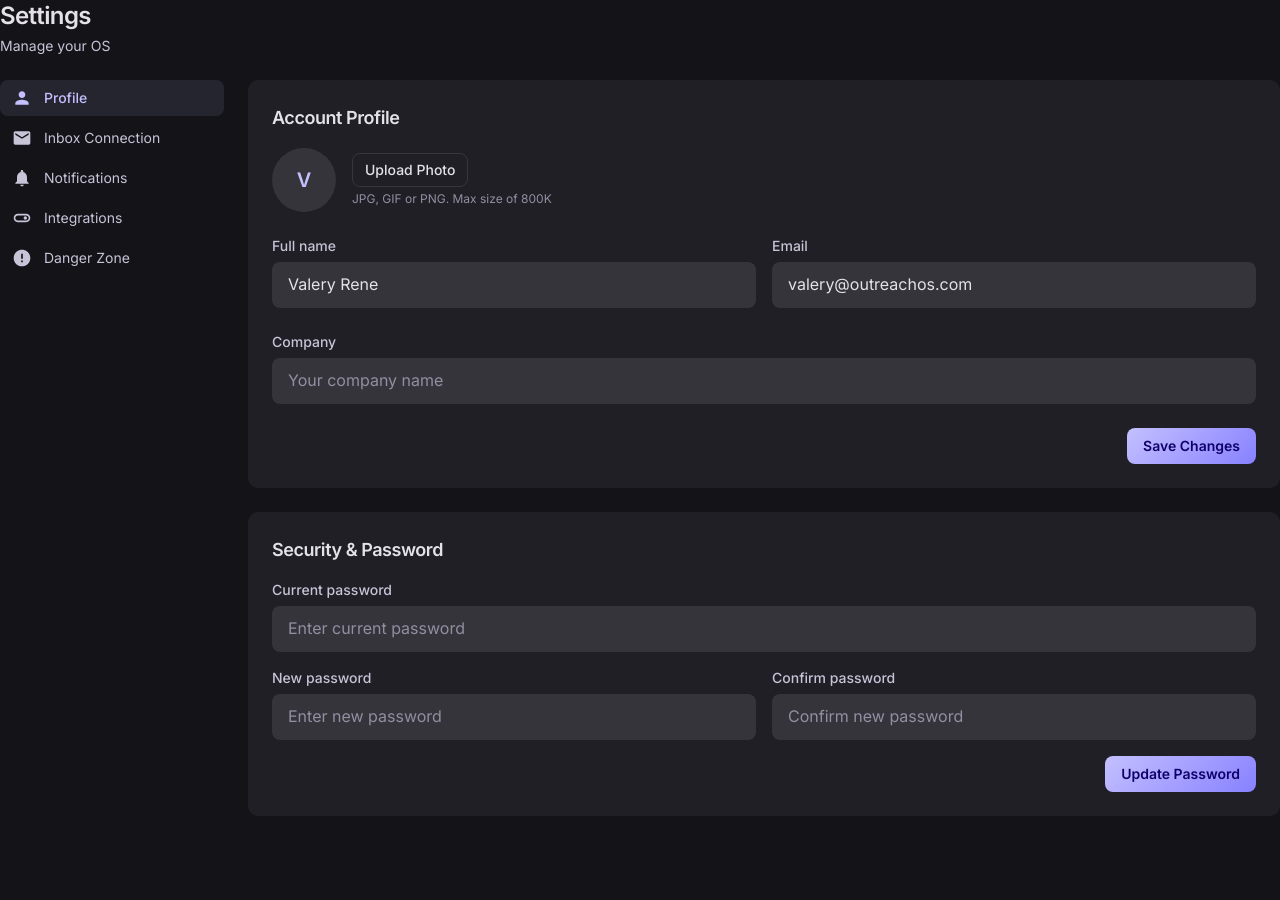
Test: SettingsPage › opens delete confirmation modal on Delete Account click
The width and height of the screenshot is (1280, 900).
Click the button "Danger Zone" at (112,258), box [0,240,224,276]
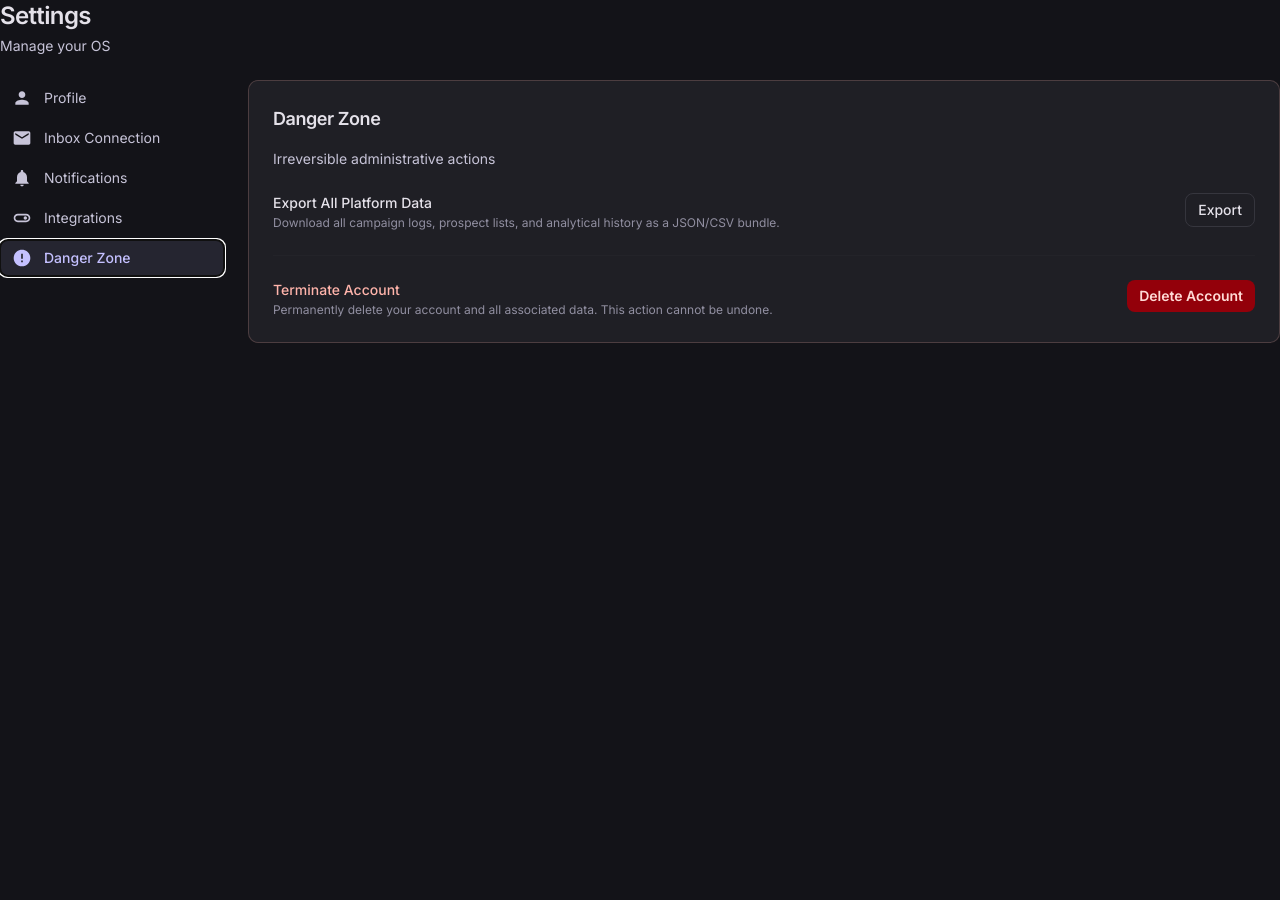
Click the button "Delete Account" at (1191,296), box [1127,280,1255,312]
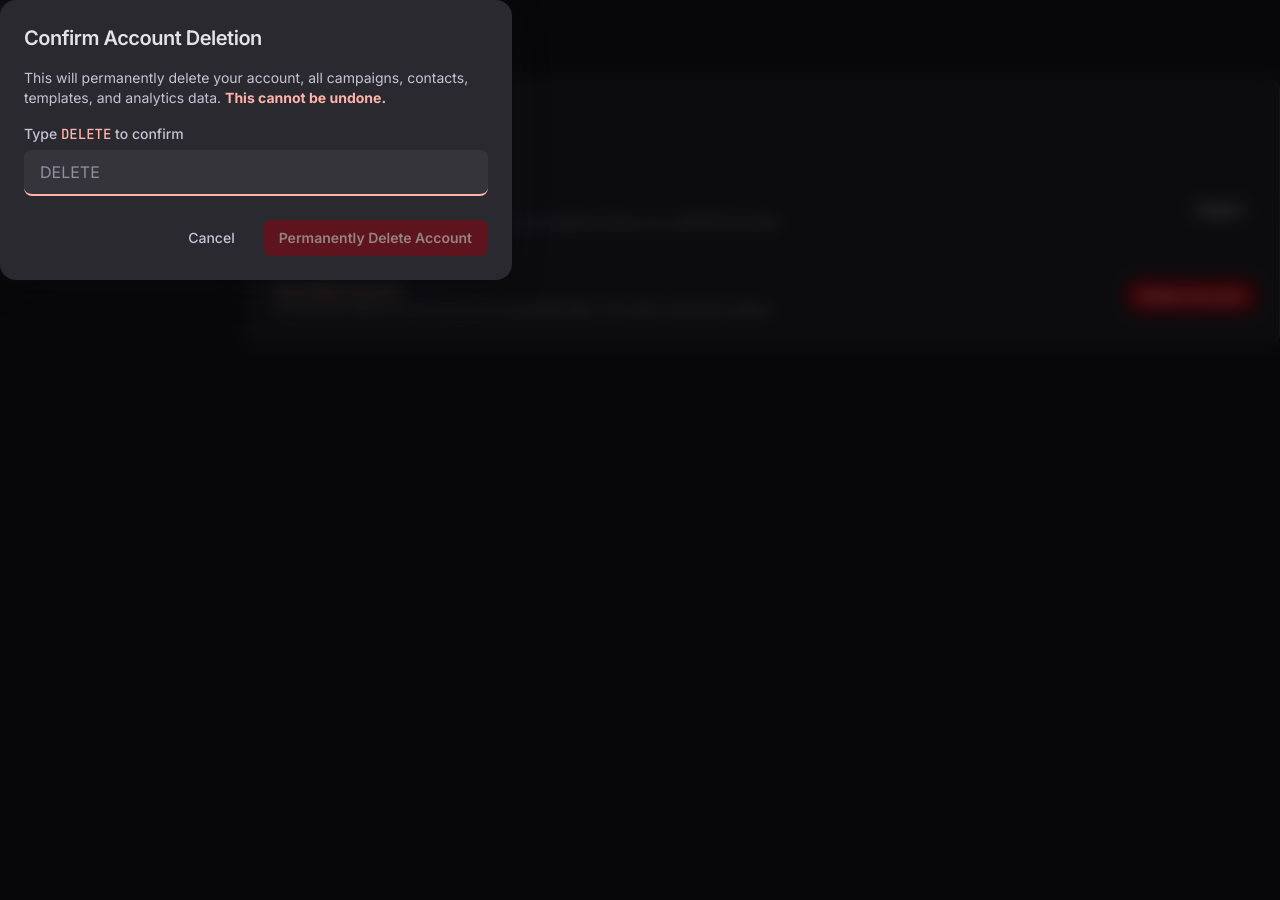
Now the heading "Confirm Account Deletion" is shown, box [24,26,262,50]
Now the field labelled "Type DELETE to confirm" is shown, box [24,150,488,196]
Now the button "Permanently Delete Account" is disabled, box [263,220,488,256]
